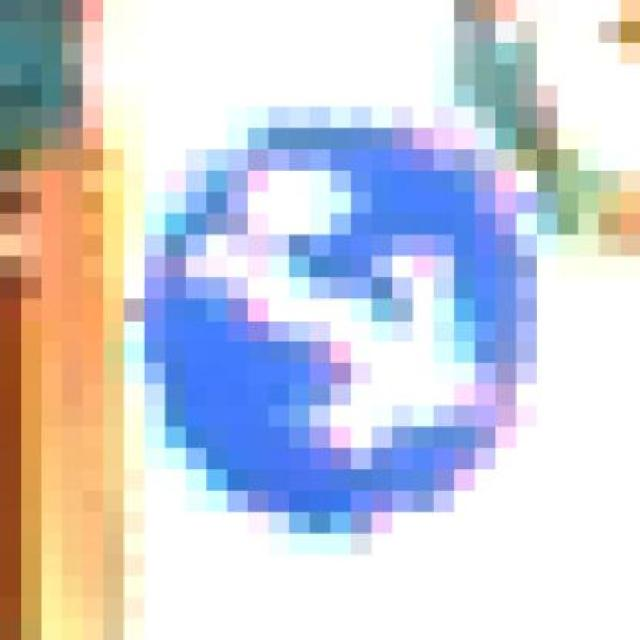Keep-Right: (124, 64, 599, 576)
